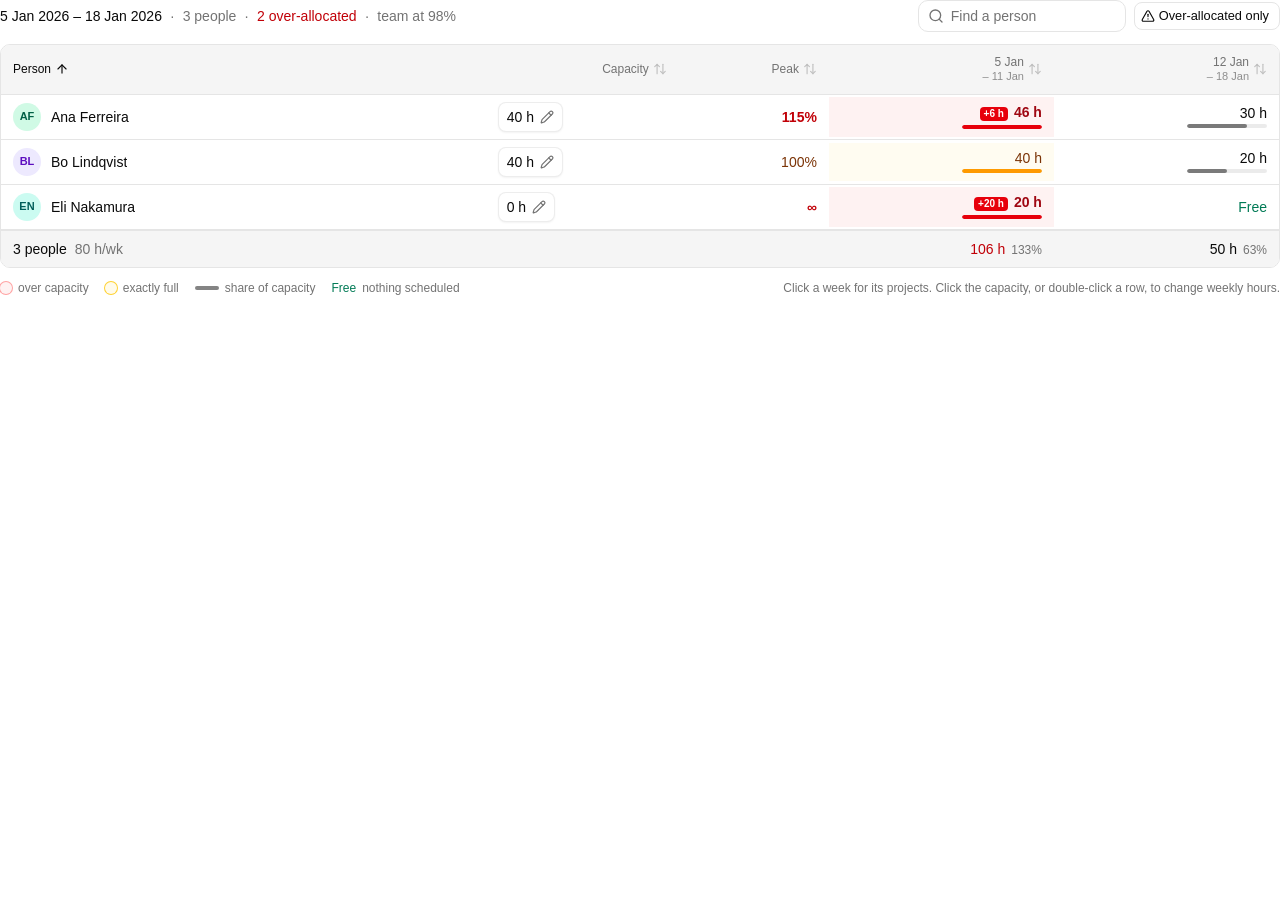
Scenario: CapacityGrid › editing weekly hours › keeps the old numbers and shows why when the save fails
Check: the text "2 over-allocated" is shown, box [257,8,357,24]
Click the button "40 h" in the row of "AF": x=530, y=117 [498,102,563,132]
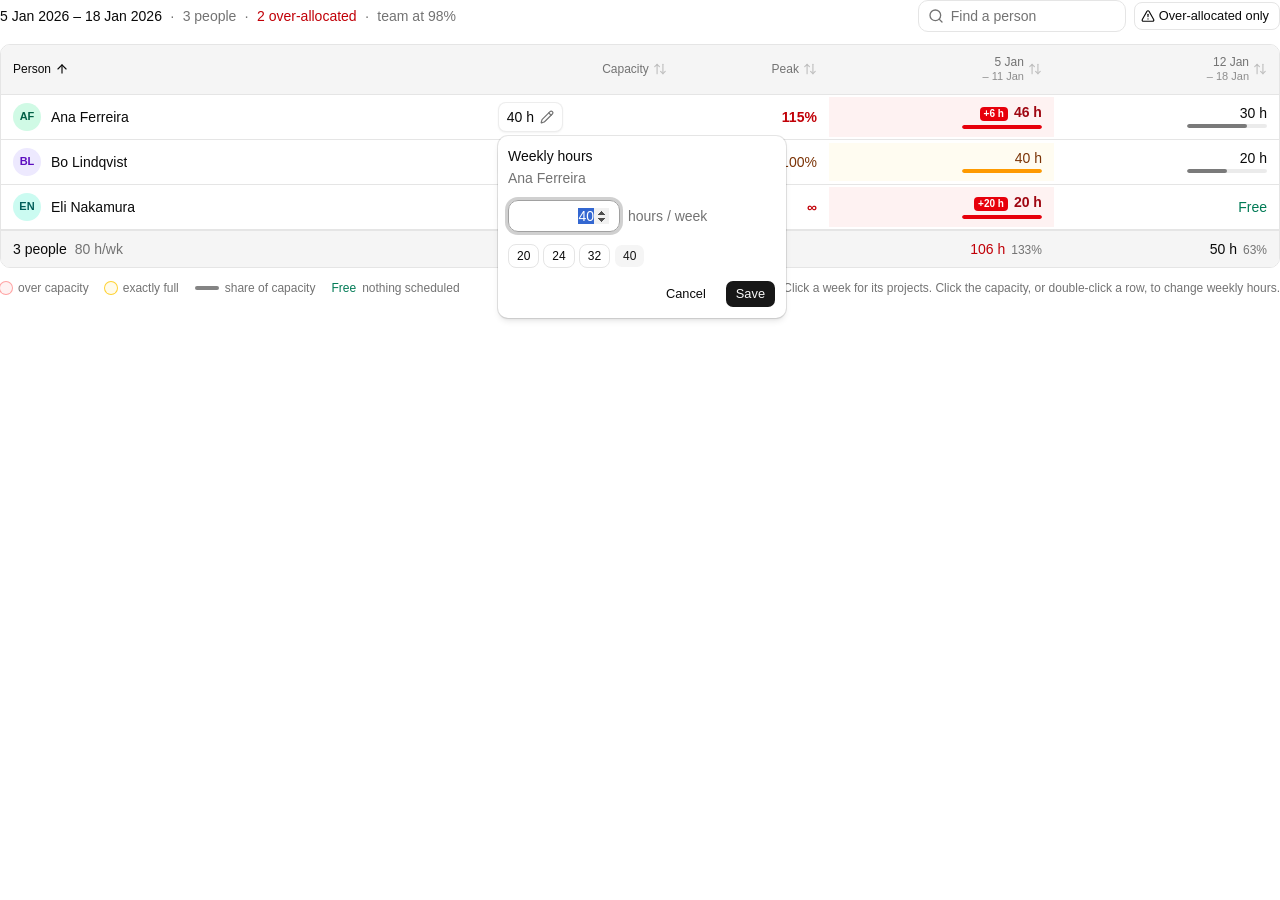
Replace the text in the number field named "Weekly hours" with "48": x=564, y=216 [508,200,620,232]
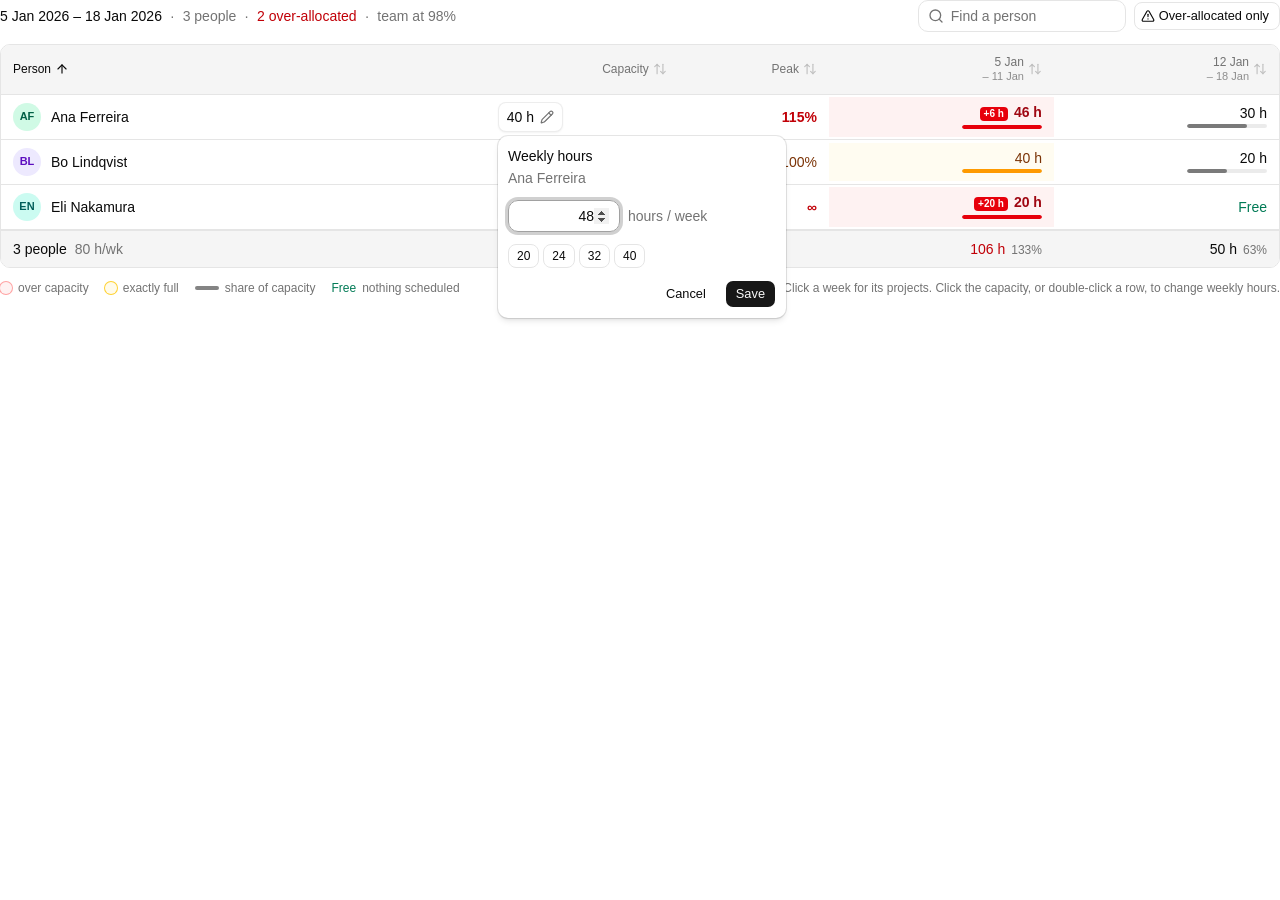
Click the button "Save": x=750, y=294 [725,280,776,308]
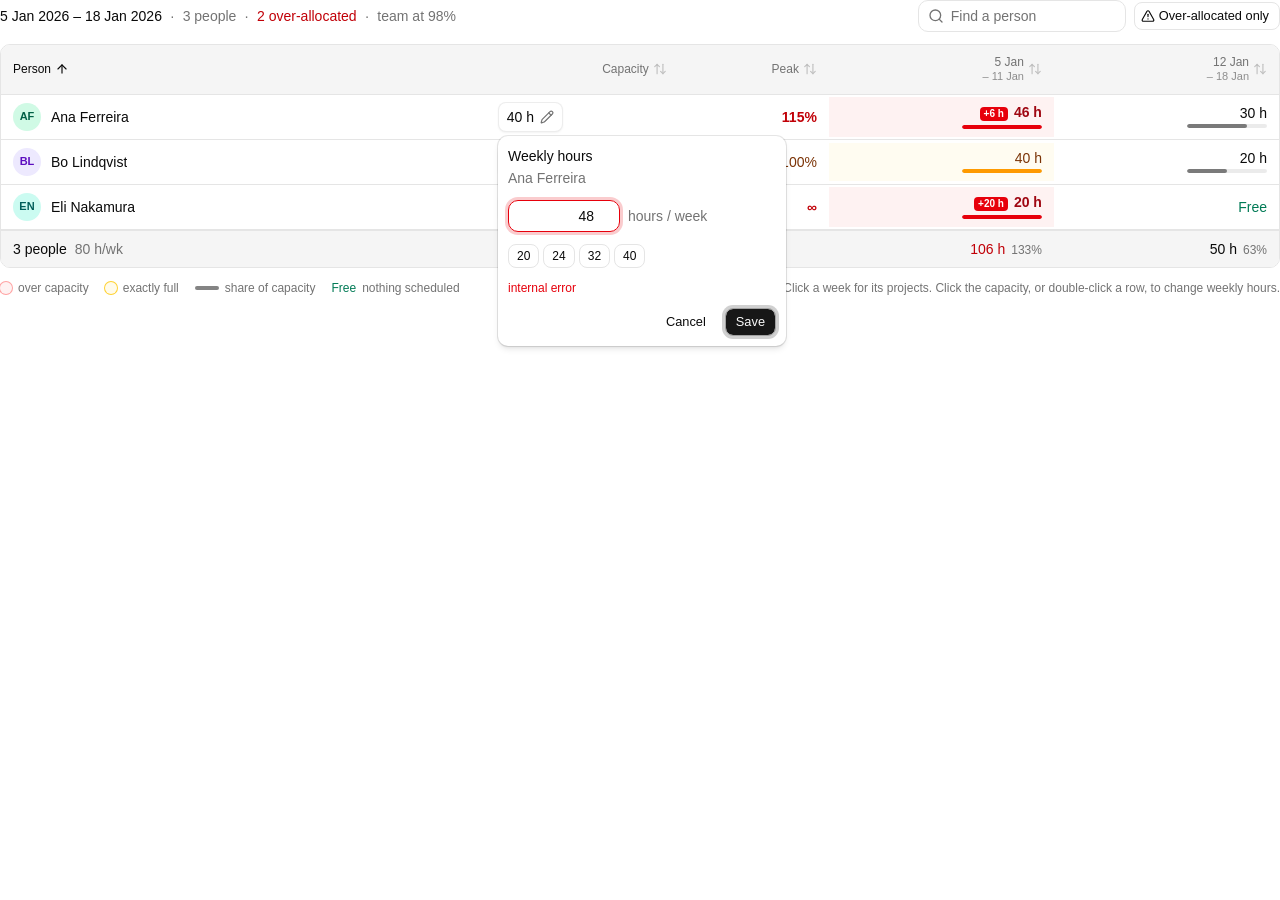
Check: the text "+6 h" is shown, box [980,107,1008,121]
Check: the message reads "internal error", box [508,281,576,295]
